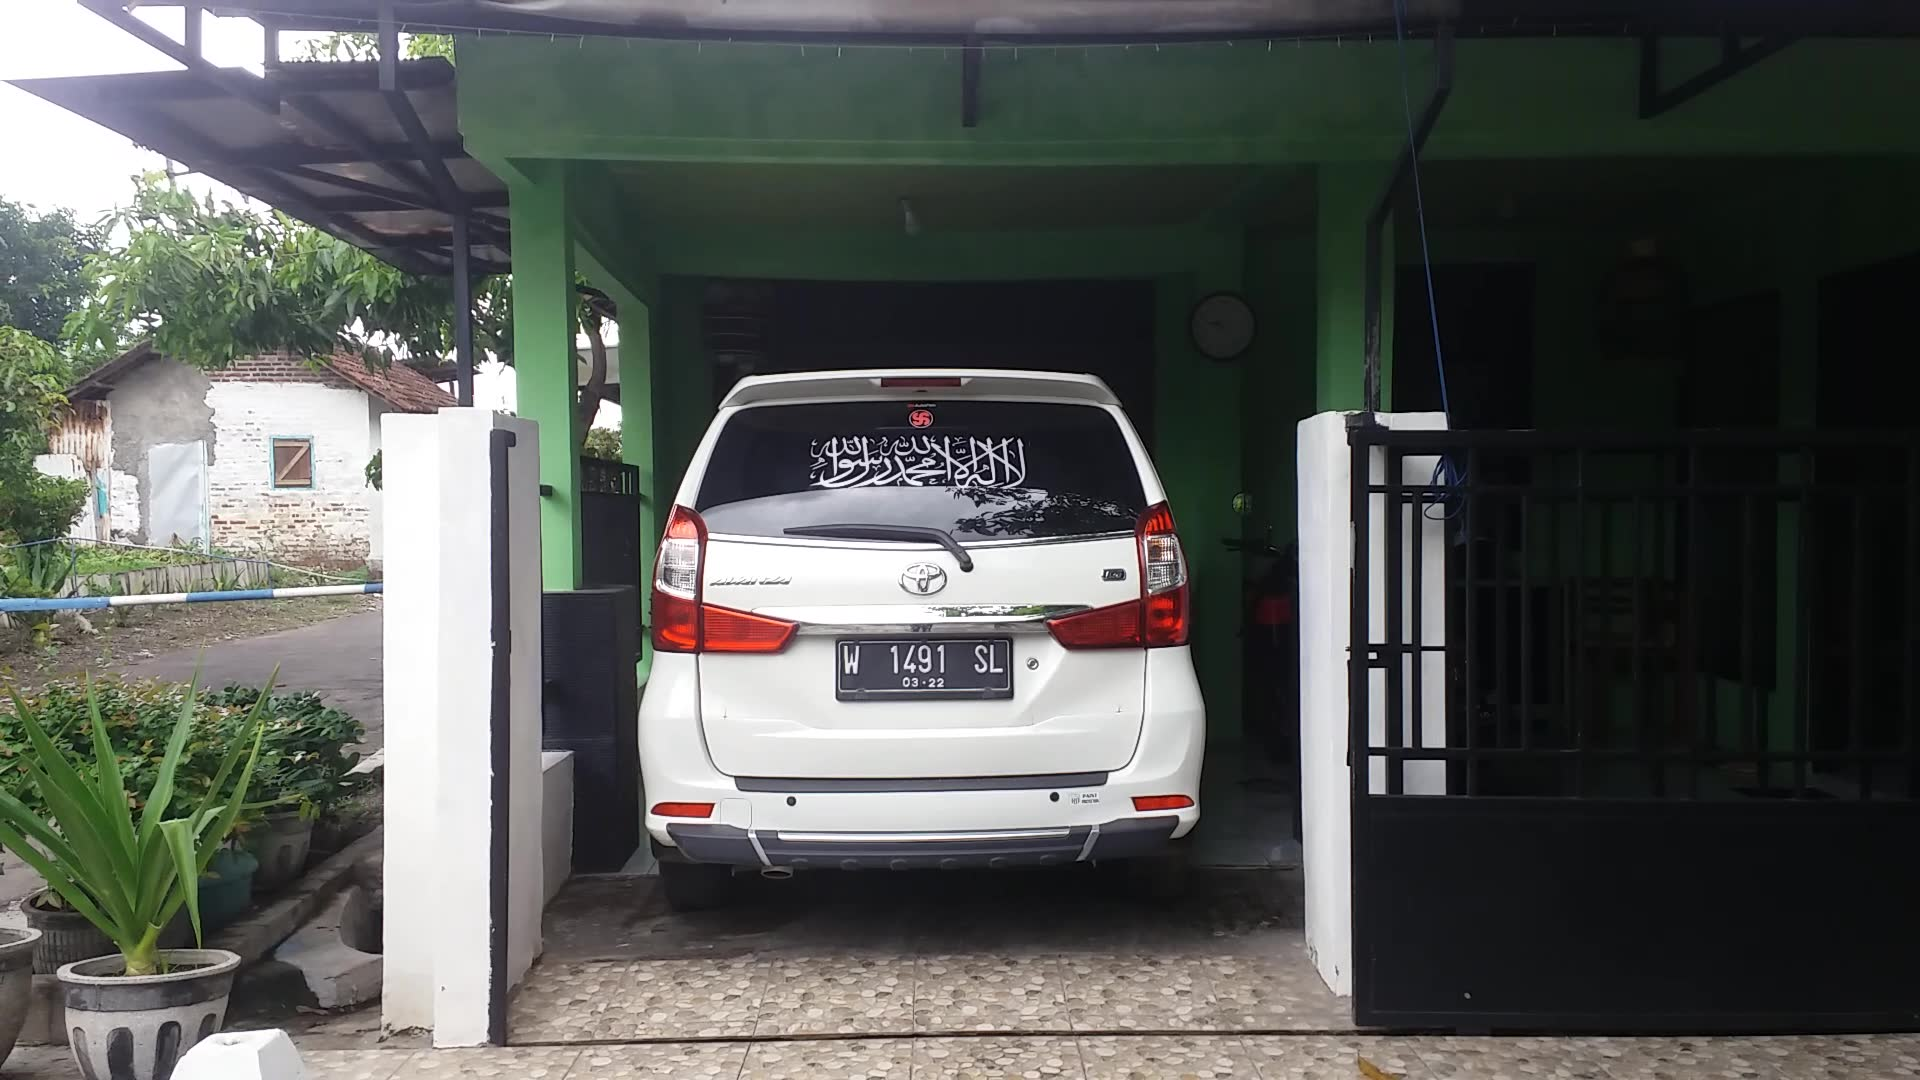plate_positive: (835, 638, 1013, 702)
